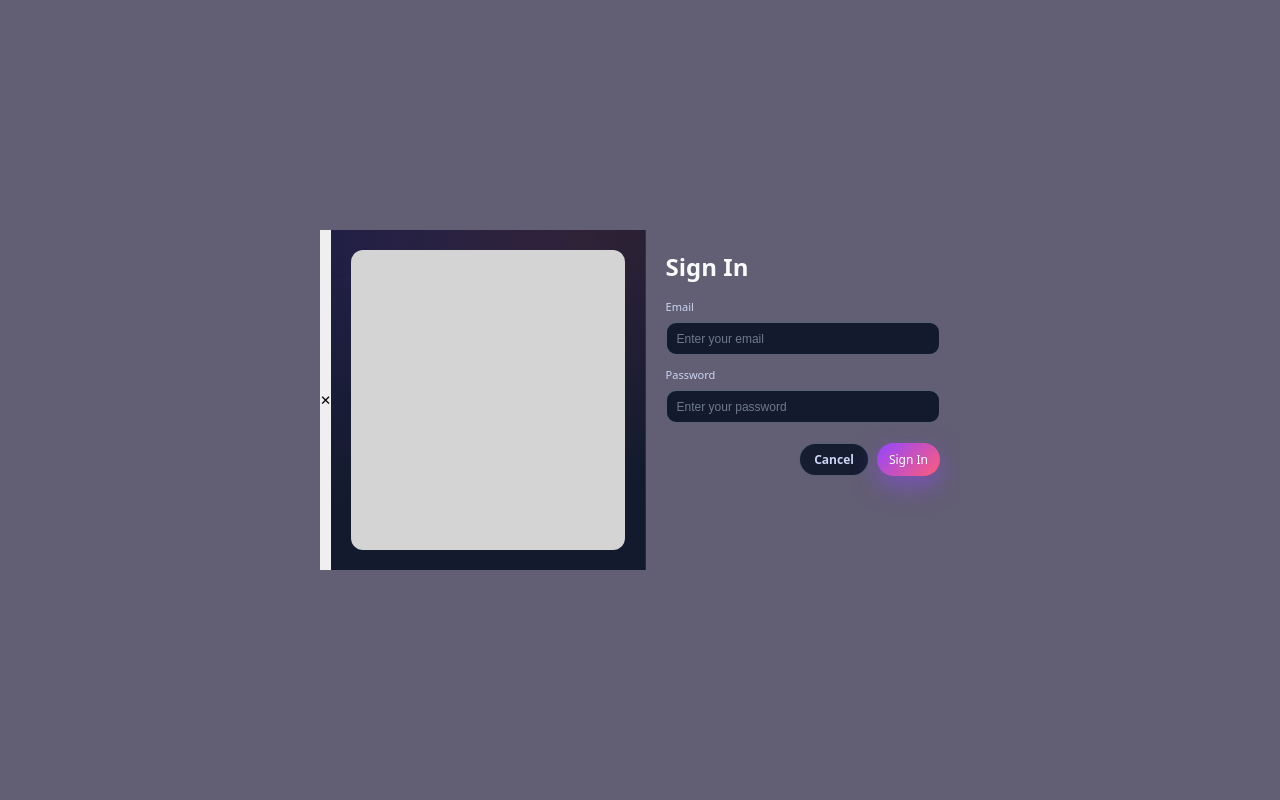
Test case: SignInModal › should display error message on sign in failure
Type "test@example.com" into the field with placeholder "Enter your email" at [803, 338], box [666,322,940,355]
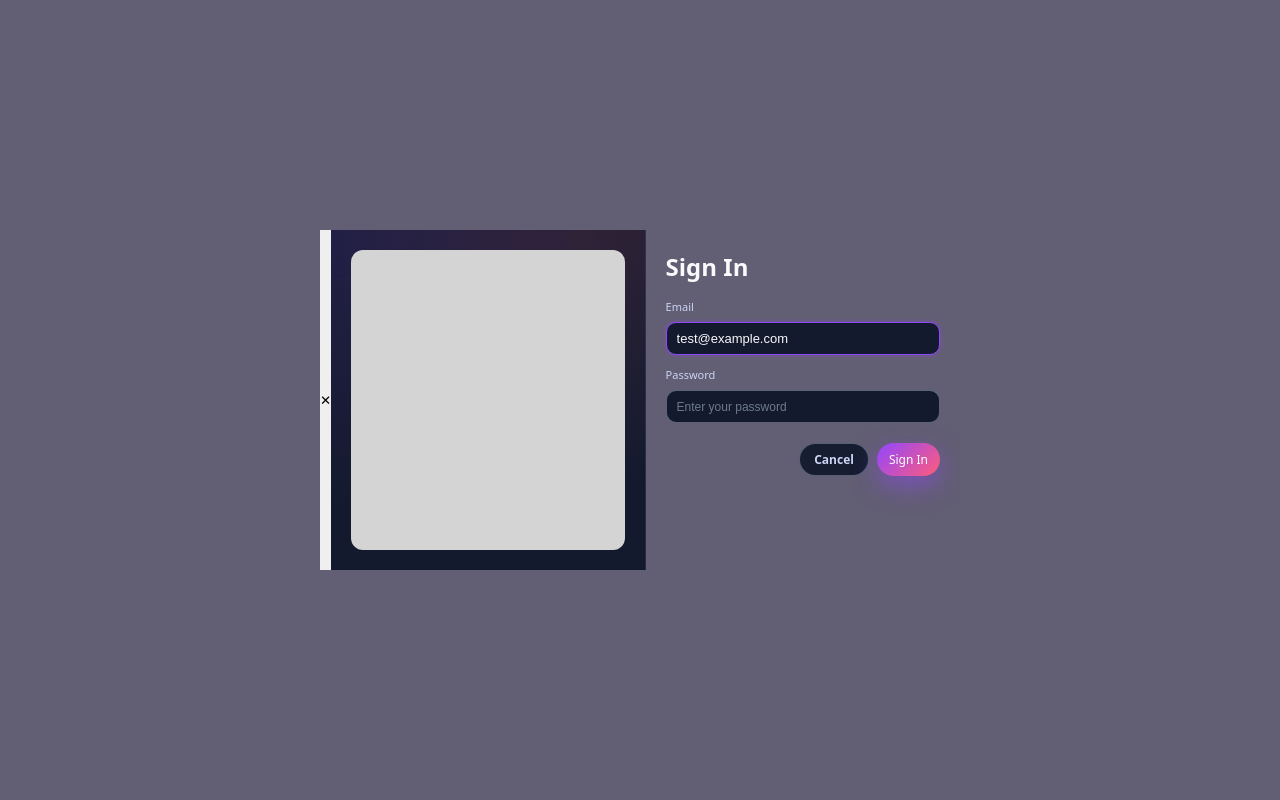
Type "wrongpassword" into the password field with placeholder "Enter your password" at [803, 406], box [666,390,940,423]
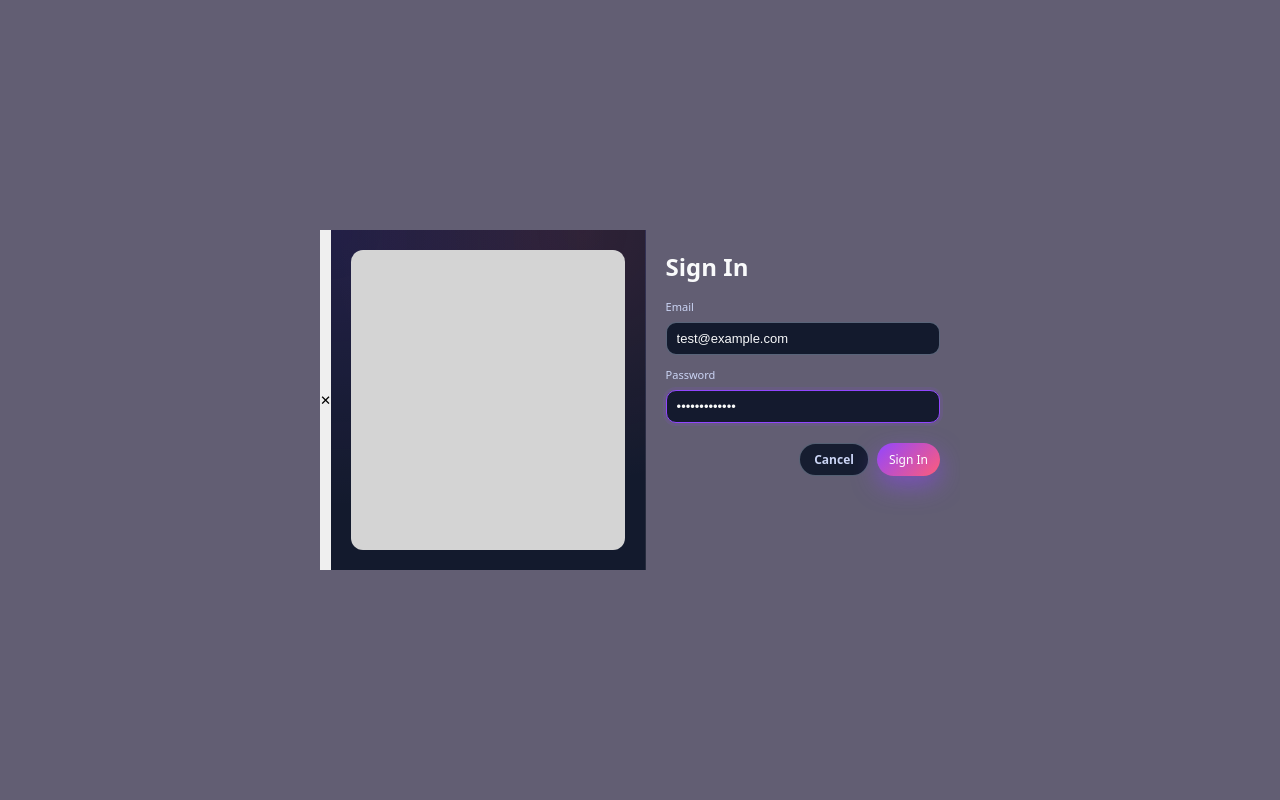
Click the button "Sign In" at [908, 460], box [877,443,940,476]
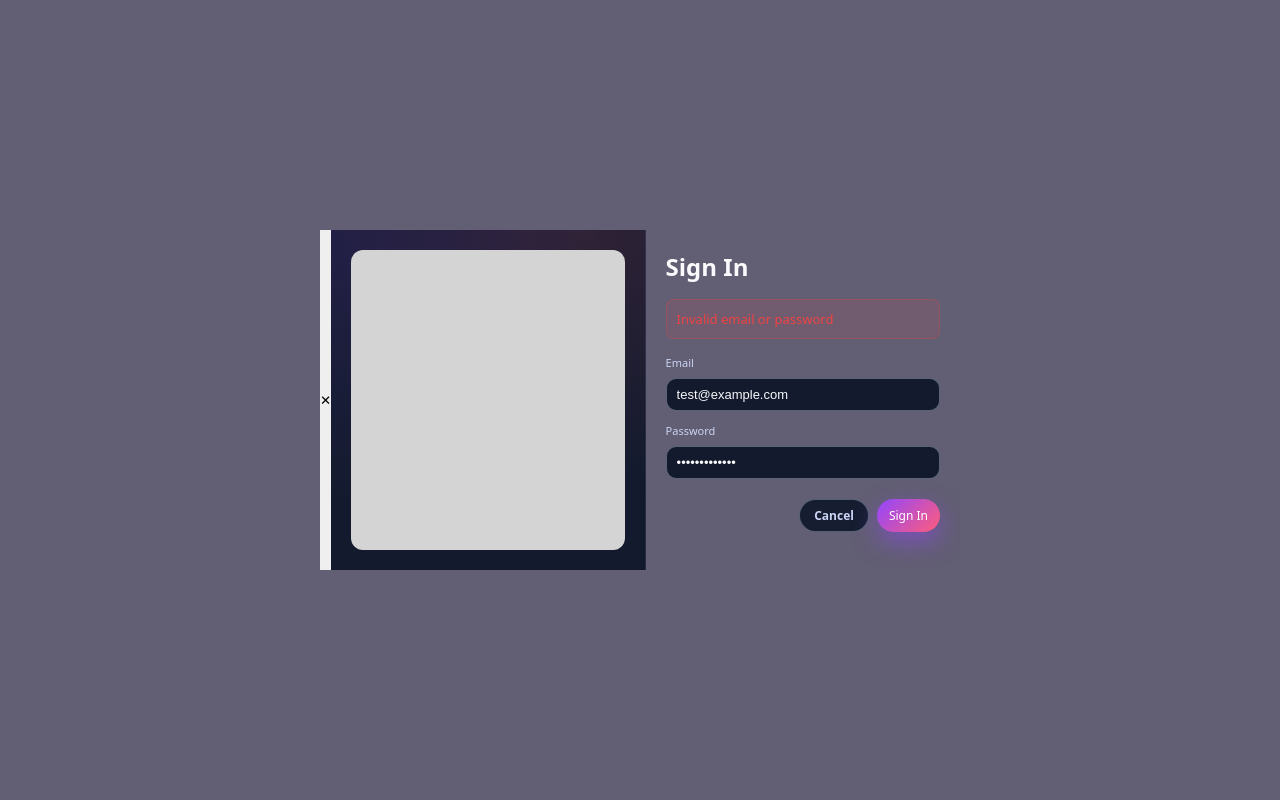
Expected: the text "Invalid email or password" is shown, [666,299,940,339]
